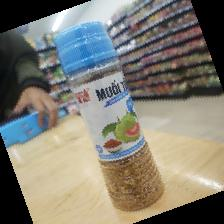TayNinh_blue: (54, 19, 165, 211)
